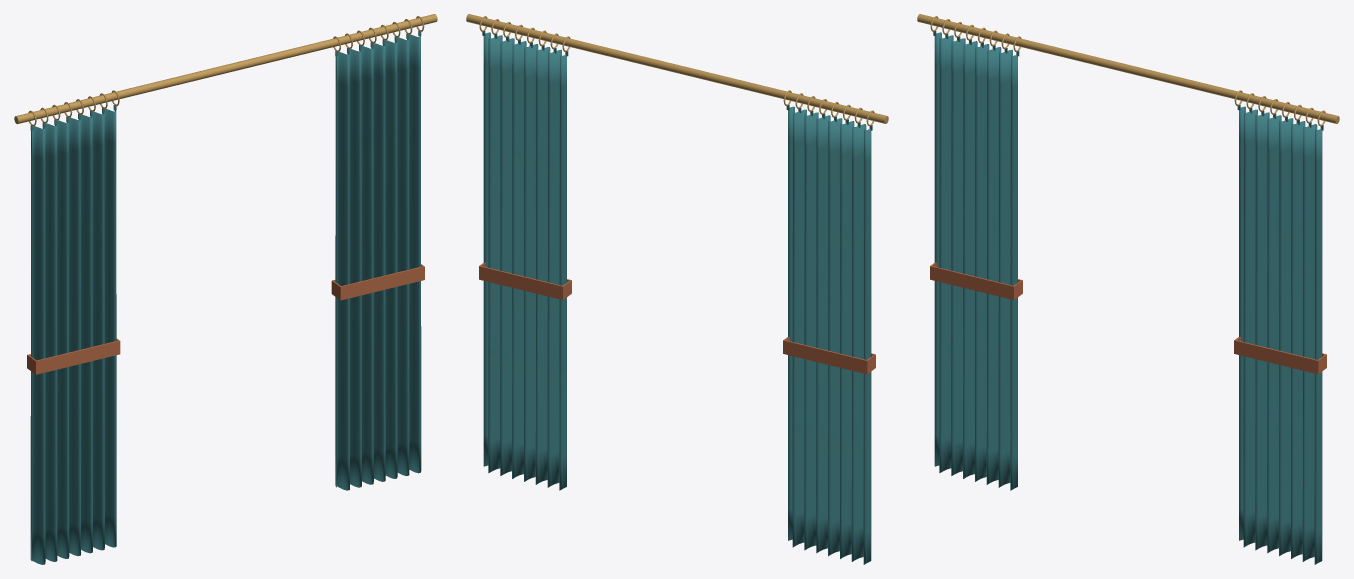
File: curtains.glb
The picture shows the model from 3 angles, left to right: view 1: azimuth 30°, elevation 25°; view 2: azimuth 150°, elevation 25°; view 3: azimuth 330°, elevation 25°; orthographic projection.
Parts seen in each view (by area): view 1: Curtain header suspension tab, Curtain pole, Closed wraparound curtain tieback; view 2: Curtain header suspension tab, Curtain pole, Closed wraparound curtain tieback; view 3: Curtain header suspension tab, Curtain pole, Closed wraparound curtain tieback.
Part boxes in pixels (left/top/right/bottom): Curtain header suspension tab: left=30, top=30, right=421, bottom=564; Curtain pole: left=14, top=14, right=437, bottom=126; Closed wraparound curtain tieback: left=27, top=264, right=424, bottom=374; Curtain header suspension tab: left=482, top=31, right=872, bottom=564; Curtain pole: left=466, top=14, right=888, bottom=126; Closed wraparound curtain tieback: left=479, top=262, right=875, bottom=374; Curtain header suspension tab: left=933, top=31, right=1323, bottom=564; Curtain pole: left=917, top=14, right=1339, bottom=126; Closed wraparound curtain tieback: left=930, top=262, right=1326, bottom=374.
Size of the model in its own units: 2.12 by 2.19 by 0.078.
Materials: 3 (3 with a texture image).
